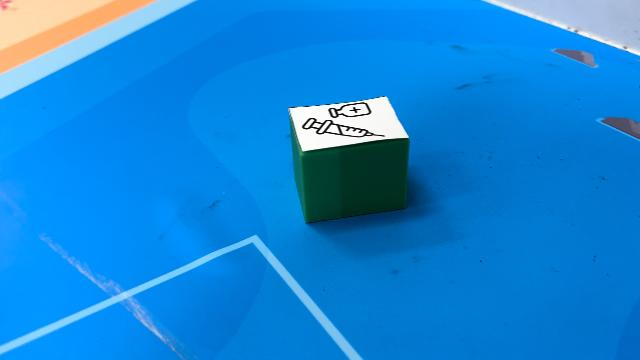syringe: (287, 96, 409, 224)
